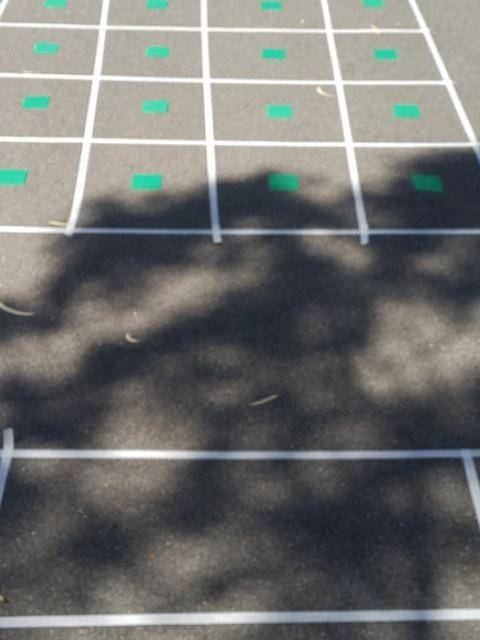weed: (266, 171, 300, 193), (410, 174, 446, 194), (130, 171, 164, 192), (0, 167, 30, 188), (20, 93, 53, 111), (391, 103, 422, 119), (140, 98, 170, 114), (265, 103, 294, 119), (33, 39, 61, 54), (372, 48, 399, 63), (144, 44, 170, 58), (260, 47, 286, 61), (41, 0, 68, 10), (260, 0, 283, 11), (360, 0, 388, 9), (143, 0, 168, 10)
